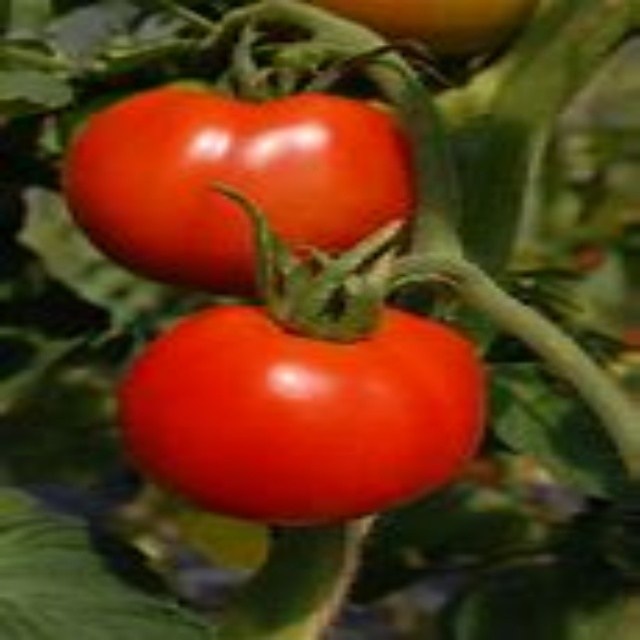tomato: (123, 296, 499, 515), (60, 85, 422, 308)
